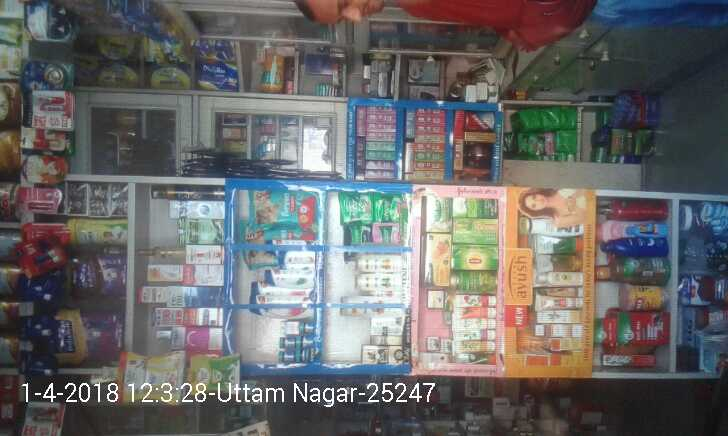vicks: (275, 318, 317, 366)
